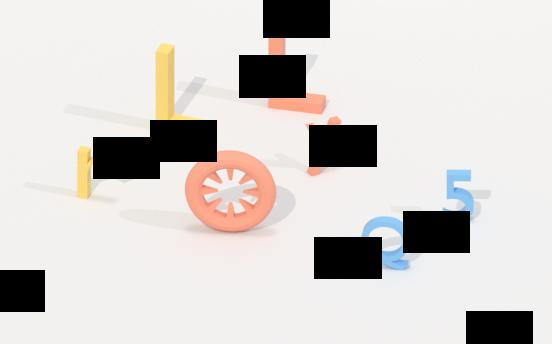5: (441, 168, 475, 225)
R: (75, 144, 119, 204)
Y: (302, 118, 342, 179)
l: (153, 41, 216, 143), (265, 17, 328, 119)
q: (360, 213, 413, 272)
tron: (184, 148, 279, 236)
